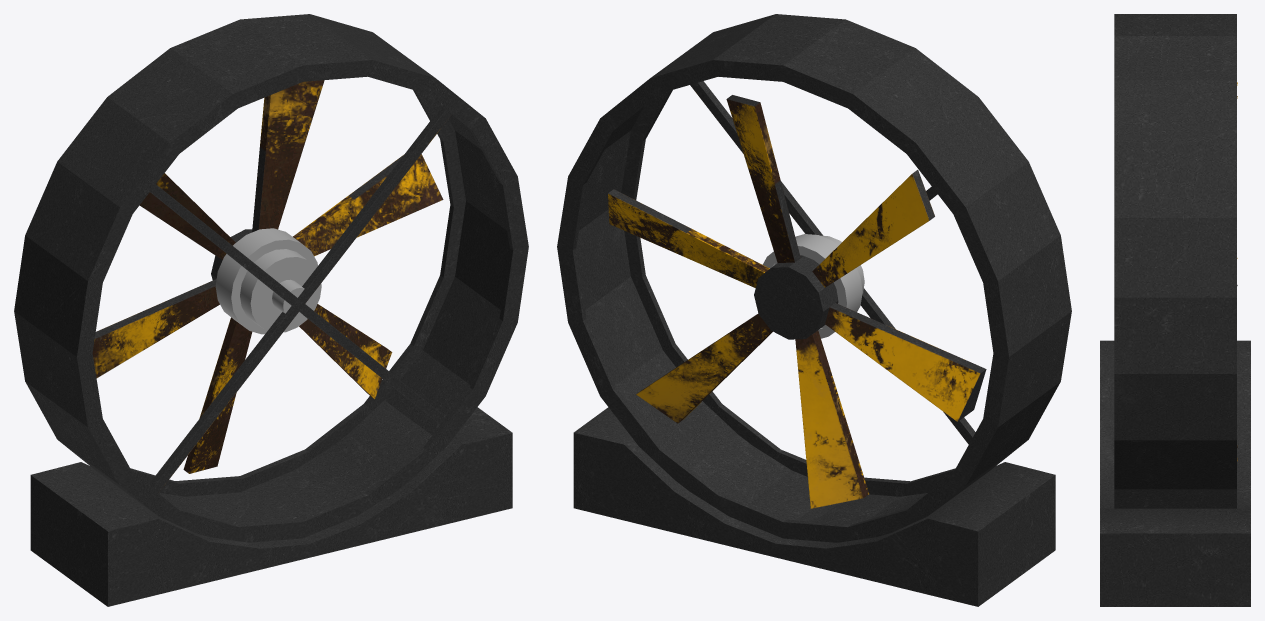
Rendered from fanModelAnim.fbx.
3 renders of one model, left to right at view 1: azimuth 30°, elevation 25°; view 2: azimuth 150°, elevation 25°; view 3: azimuth 270°, elevation 25°, orthographic. The views are drawn at different scales.
Parts seen in each view (by area): view 1: pCylinder20, pCube55, pCylinder22, pCylinder21, pCube57, pCube56; view 2: pCylinder20, pCylinder22, pCube55, pCube57, pCylinder21; view 3: pCylinder20, pCube55.
Boxes of the visible parts, x1=… form: pCylinder20: x1=14, y1=14, x2=528, y2=542; pCube55: x1=30, y1=400, x2=512, y2=606; pCylinder22: x1=92, y1=80, x2=443, y2=473; pCylinder21: x1=215, y1=228, x2=321, y2=334; pCube57: x1=148, y1=106, x2=451, y2=493; pCube56: x1=150, y1=184, x2=446, y2=424; pCylinder20: x1=557, y1=14, x2=1071, y2=542; pCylinder22: x1=608, y1=95, x2=986, y2=508; pCube55: x1=573, y1=401, x2=1055, y2=606; pCube57: x1=690, y1=81, x2=975, y2=444; pCylinder21: x1=762, y1=234, x2=864, y2=338; pCylinder20: x1=1114, y1=14, x2=1236, y2=508; pCube55: x1=1100, y1=340, x2=1250, y2=606.
Bounding box in the file's own units: 2.15 × 2.21 × 0.637.
